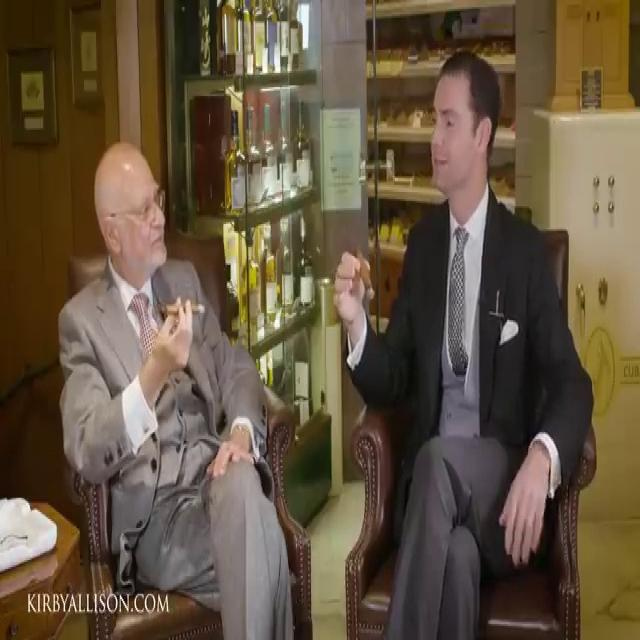Smooking: (354, 254, 384, 314), (162, 292, 209, 325)
